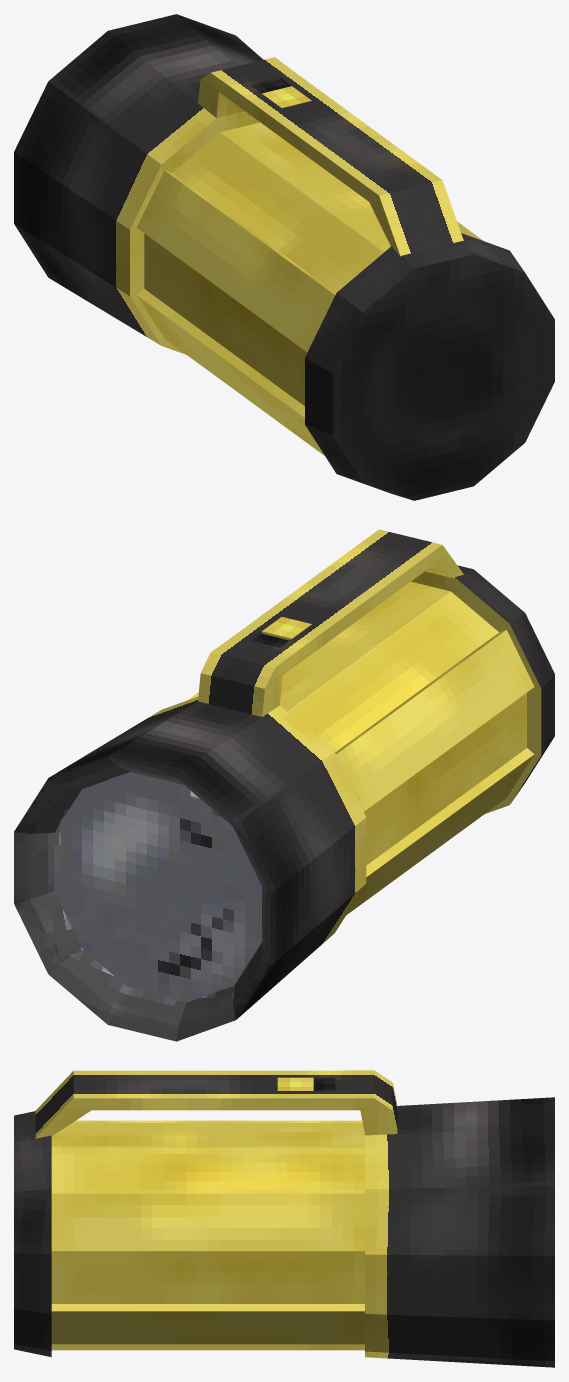
The model's file is heavy-flashlight.gltf.
3 renders of one model, top to bottom at view 1: azimuth 30°, elevation 25°; view 2: azimuth 150°, elevation 25°; view 3: azimuth 270°, elevation 25°, orthographic. The views are drawn at different scales.
Visible parts, largest first — view 1: heavy-light, controller; view 2: heavy-light, light, controller; view 3: heavy-light, controller.
Part boxes in pixels (bbox=[...]): heavy-light: bbox=[14, 14, 554, 500]; controller: bbox=[262, 86, 311, 107]; heavy-light: bbox=[14, 529, 554, 1041]; light: bbox=[54, 772, 261, 1002]; controller: bbox=[261, 617, 311, 640]; heavy-light: bbox=[14, 1070, 554, 1367]; controller: bbox=[277, 1077, 313, 1090].
Bounding box in the file's own units: 0.185 × 0.2066 × 0.3774.
1 material, 1 textured.
